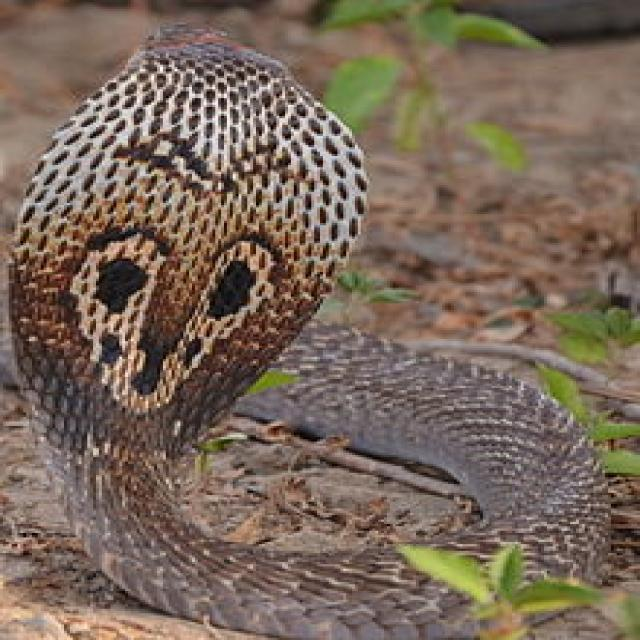Snake: (3, 18, 617, 638)
